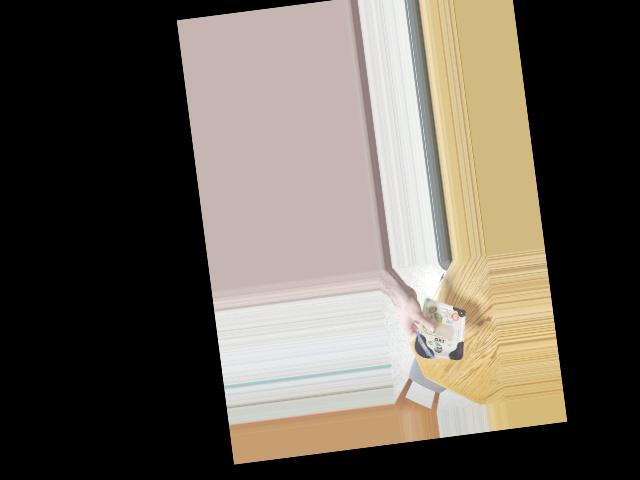cheese: (411, 304, 469, 363)
